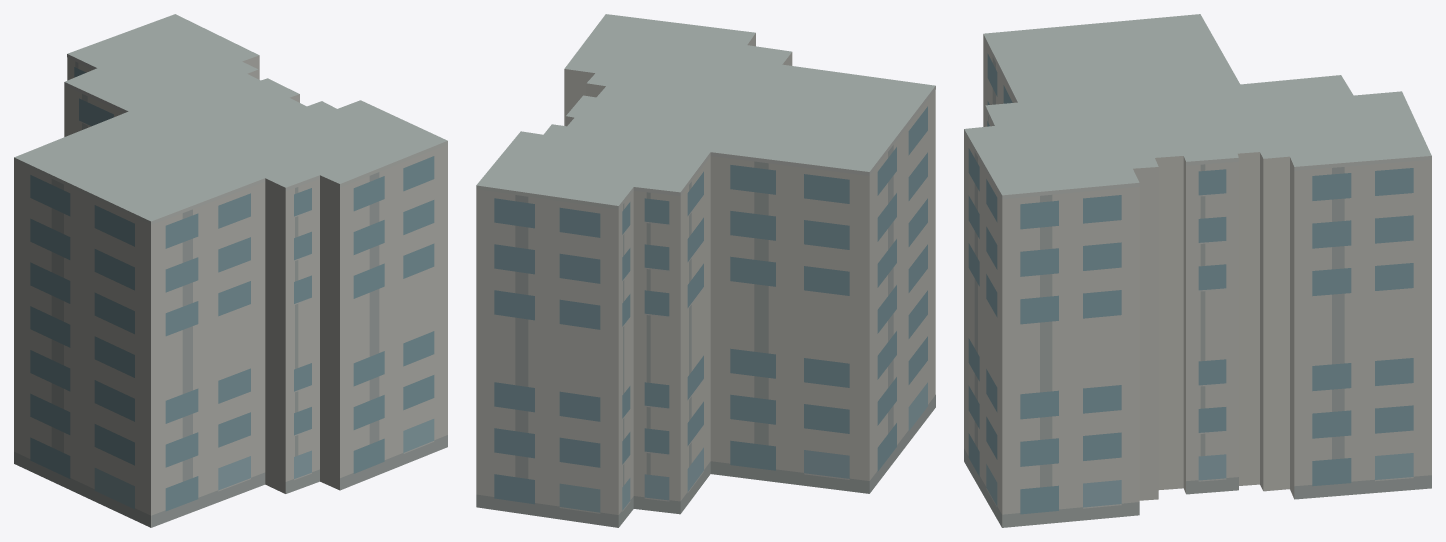
Rendered from survey-upis-32700476.glb.
The picture shows the model from 3 angles, left to right: view 1: azimuth 30°, elevation 25°; view 2: azimuth 150°, elevation 25°; view 3: azimuth 270°, elevation 25°; orthographic projection. The views are drawn at different scales.
Parts seen in each view (by area): view 1: survey-upis-32700476.tmp; view 2: survey-upis-32700476.tmp; view 3: survey-upis-32700476.tmp.
Part boxes in pixels (x1=…): survey-upis-32700476.tmp: x1=14, y1=14, x2=447, y2=527; survey-upis-32700476.tmp: x1=476, y1=14, x2=935, y2=527; survey-upis-32700476.tmp: x1=964, y1=14, x2=1431, y2=527.
Size of the model in its own units: 23.75 by 20.3 by 25.89.
